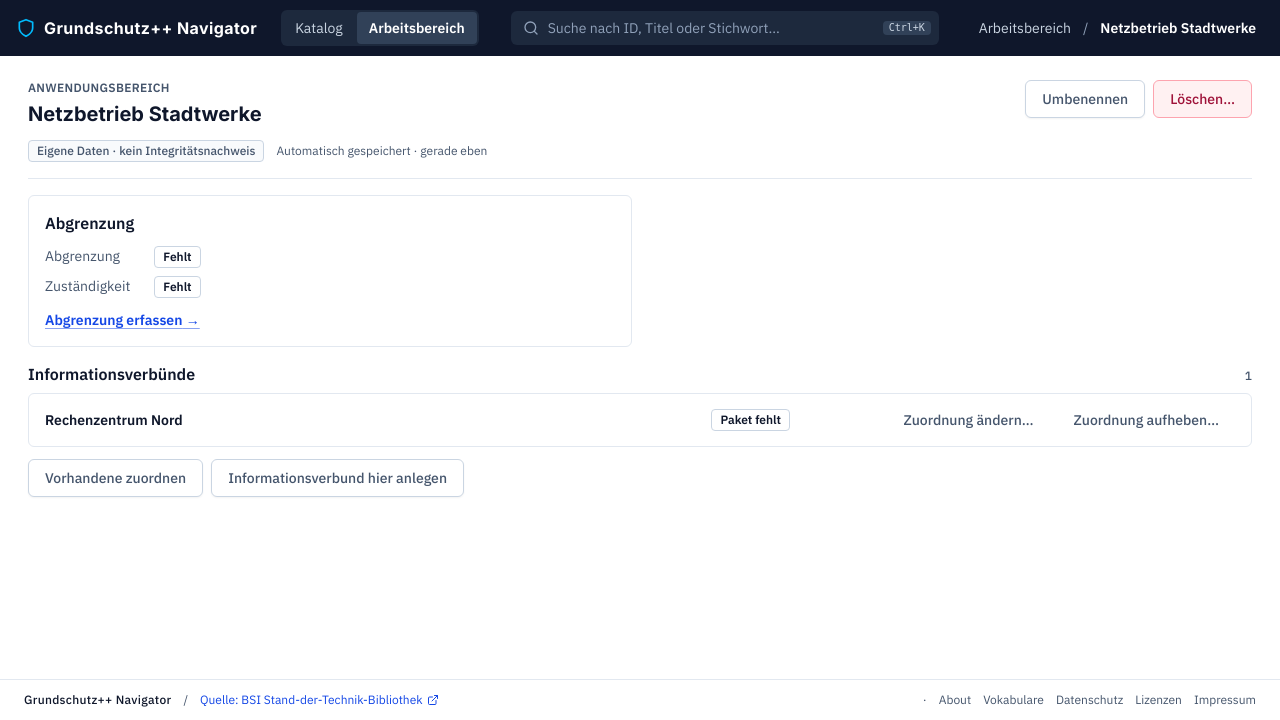
Zuordnung im Arbeitsbereich › wiederholt nach einem Lesefehler die Dokumentabfrage für denselben Verbund
Click the button "Zuordnung ändern…": point(968, 420) [887,402,1050,438]
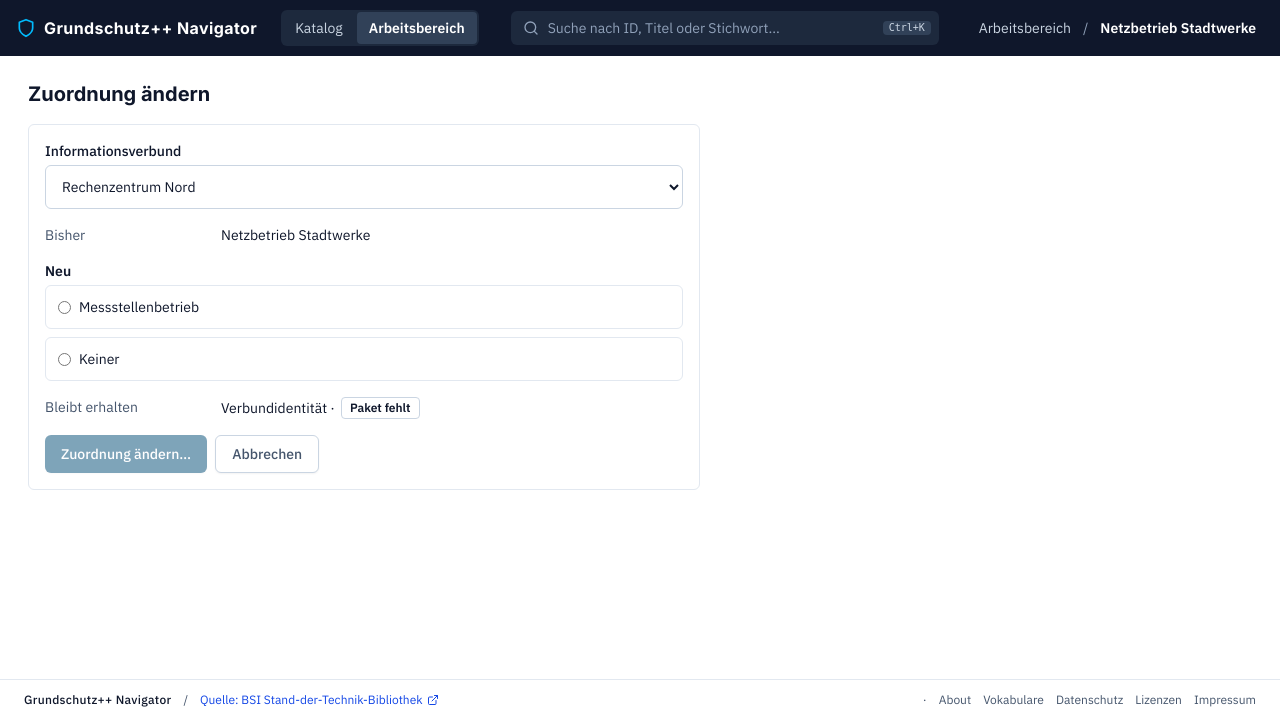
Click the radio button labelled "Messstellenbetrieb": point(64, 307) [58,300,71,314]
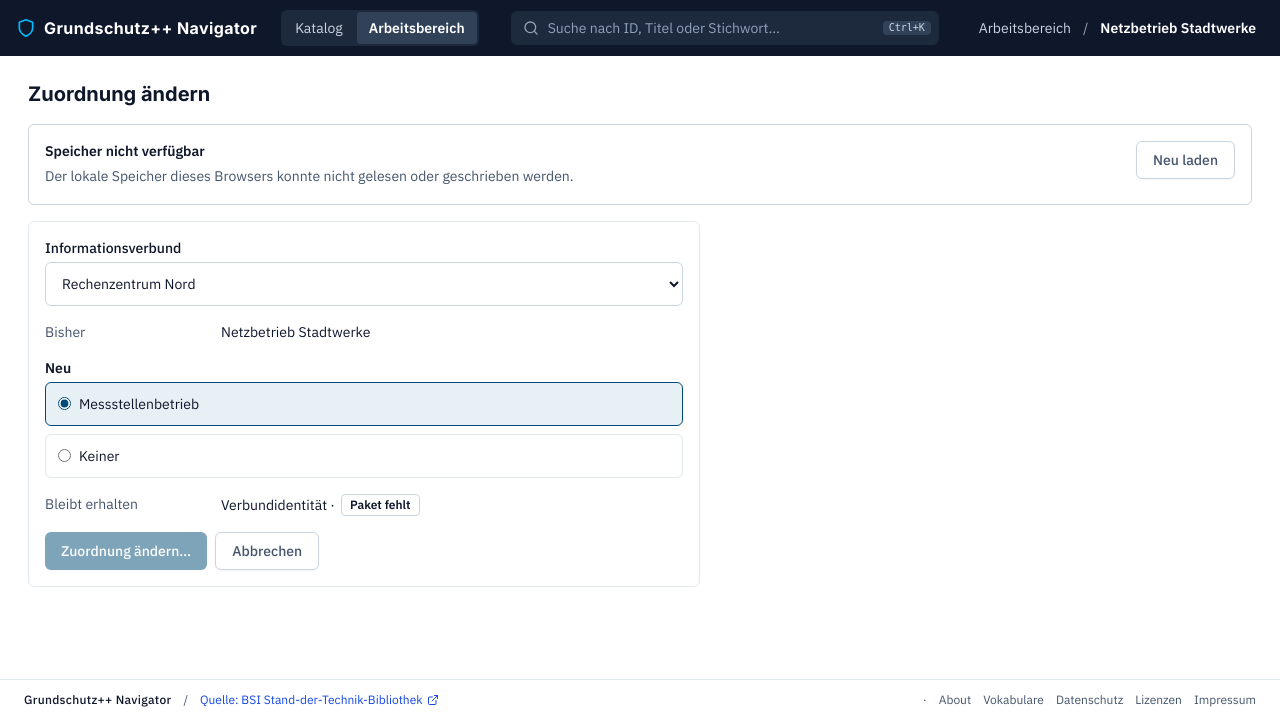
Click the button "Neu laden": point(1186, 160) [1136,141,1235,179]
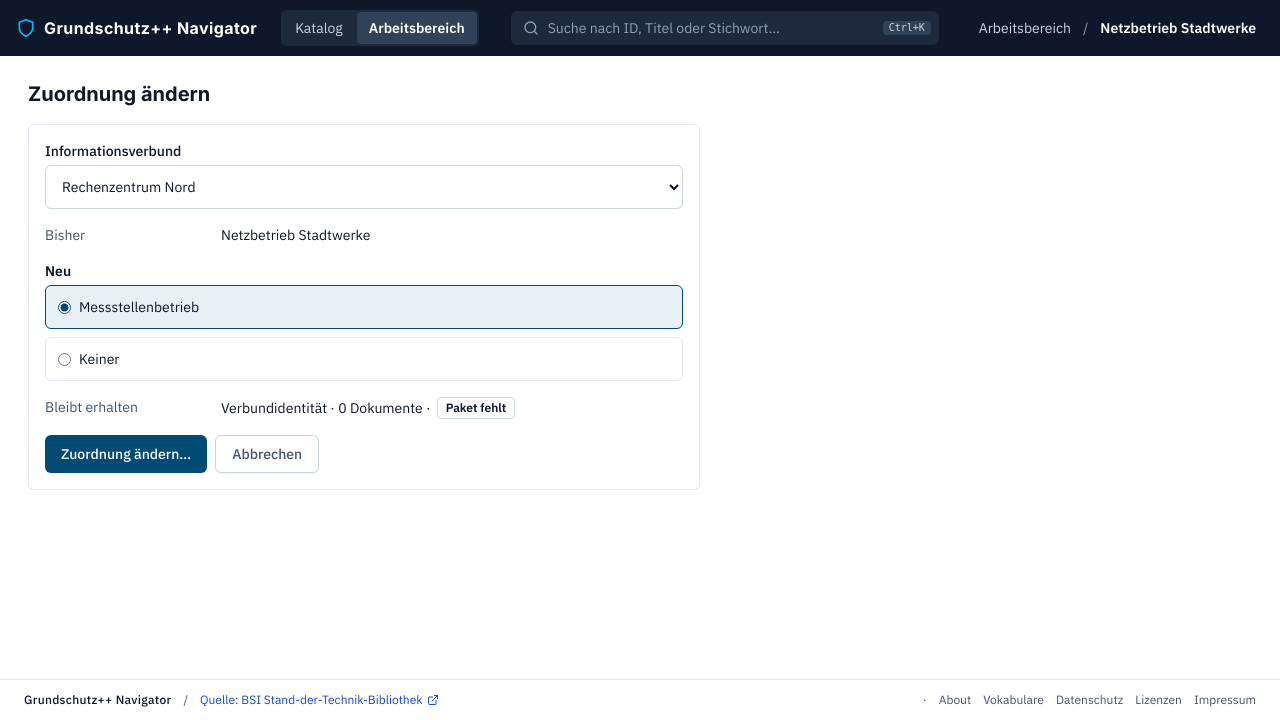
expect the button "Zuordnung ändern…" is enabled: met, box [45,435,207,473]
expect the text "Verbundidentität · 0 Dokumente · Paket fehlt" is shown: met, box [221,397,515,419]
